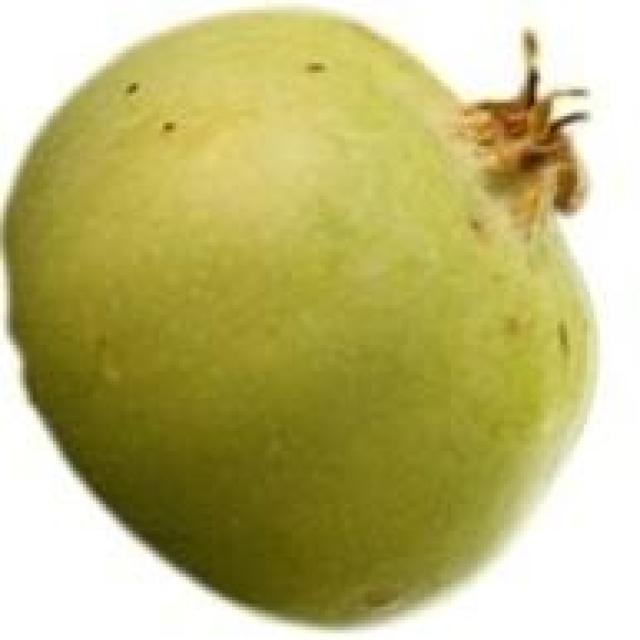Rotten Apple: (10, 11, 610, 618)
